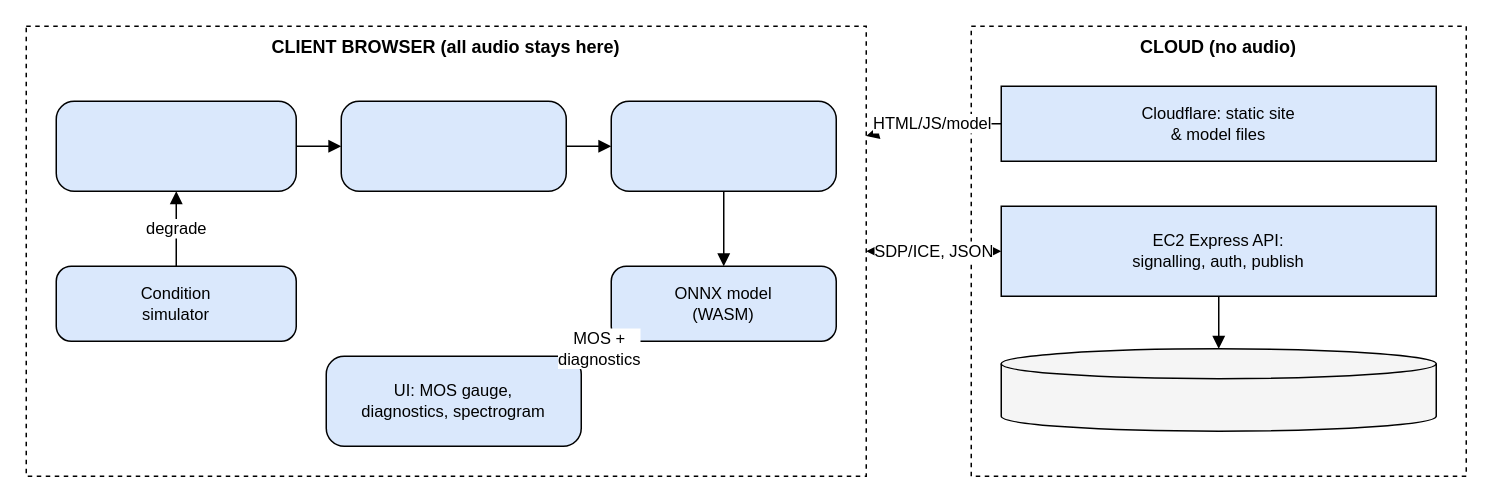
The diagram is 1493 pixels wide and 503 high, and some of its shapes have lost their labels. Each missing label, with the centre of its shape:
"Audio source (mic / demo / tab / remote)" belongs at point (175, 145).
"Features 80 log-mel + 5" belongs at point (723, 145).
"Resample 16 kHz + VAD + buffers" belongs at point (453, 145).
"S3 / R2 deliverable files + JSON metadata DB" belongs at point (1218, 389).
